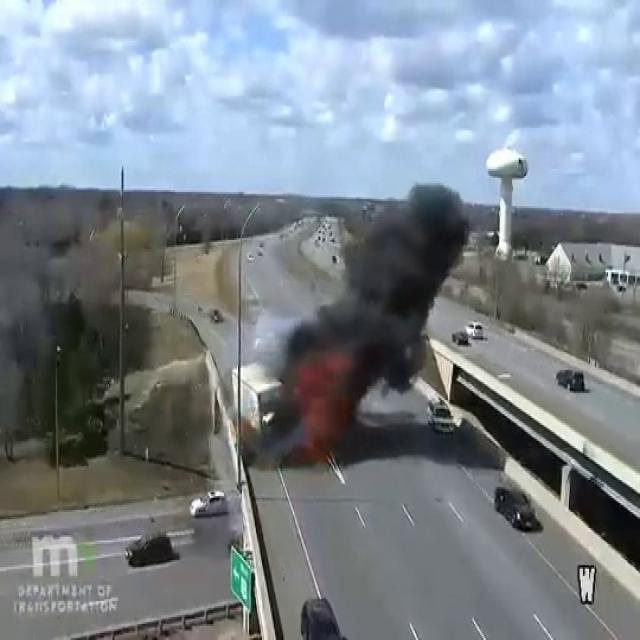Smoke: (266, 163, 476, 414), (0, 148, 68, 454)
